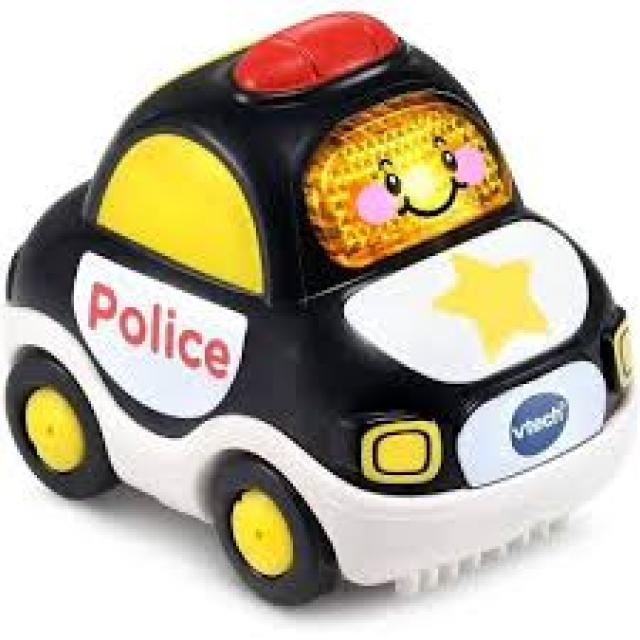Car: (3, 3, 634, 634)
